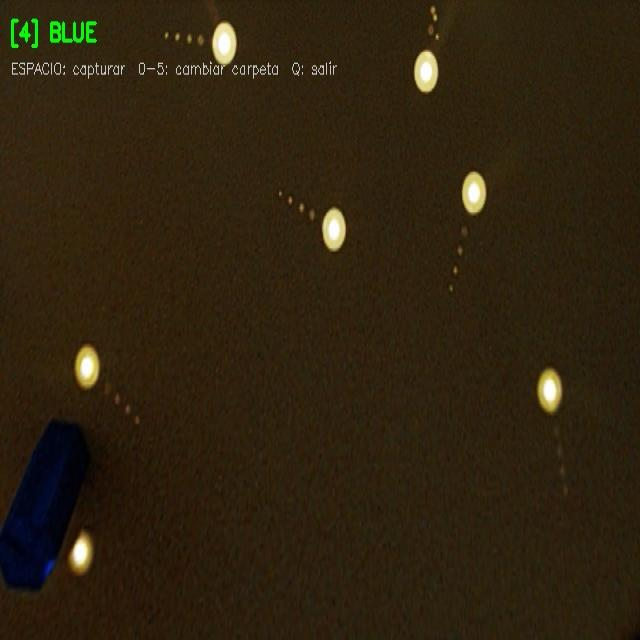blue: (0, 413, 96, 596)
